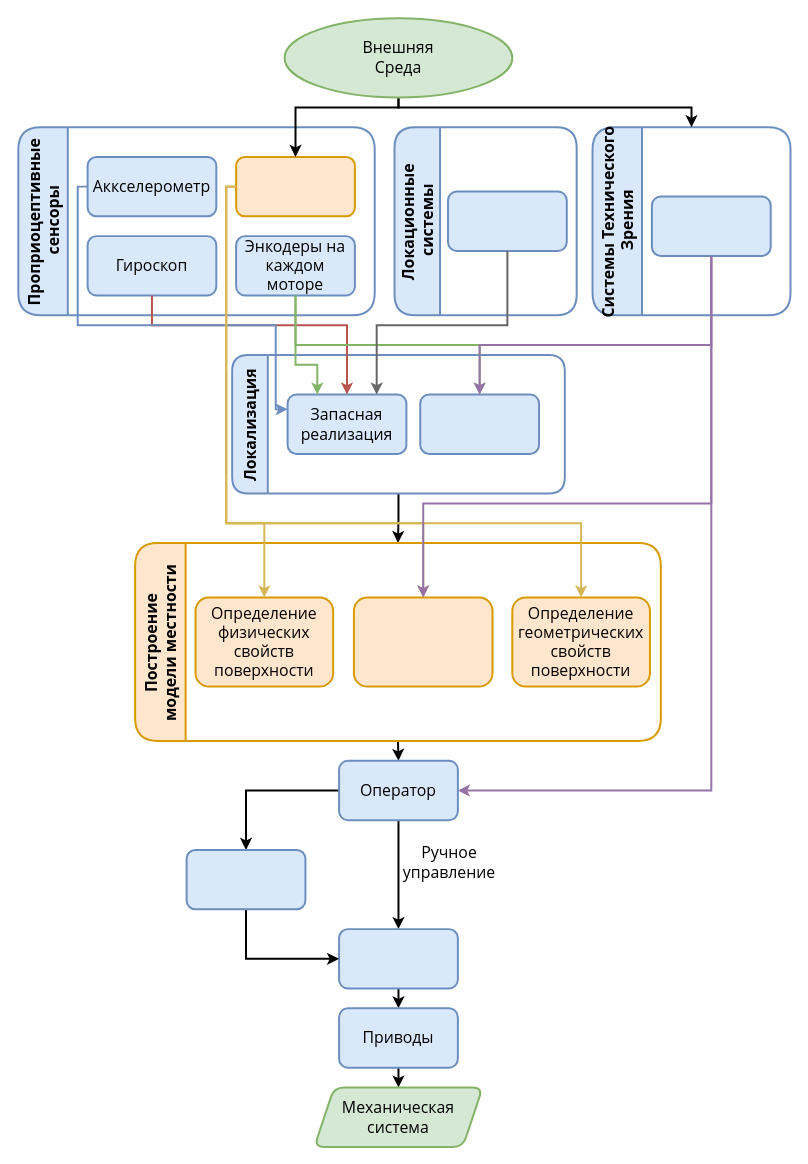
The diagram is 808 pixels wide and 1164 high, and some of its shapes have lost their labels. Here are the shapes that lost their labels. From the top down, the centre of each, then its label:
At (x=295, y=186): "Датчики силы на каждой ноге".
At (x=506, y=220): "Система радио маяков".
At (x=710, y=225): "Time of Flight (ToF) камера".
At (x=479, y=423): "Основная реализация".
At (x=422, y=641): "Построение карты местности".
At (x=245, y=879): "Планирование движения".
At (x=398, y=958): "Блок управления движением".
